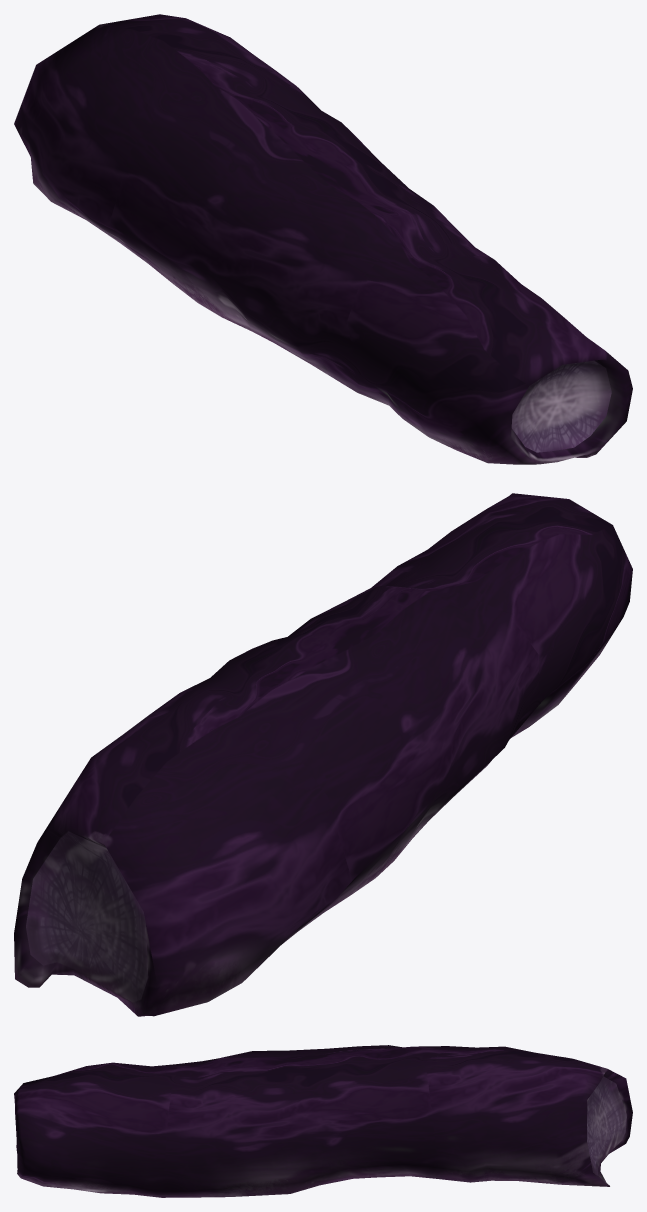
The model's file is bois_pasrelle.fbx.
3 renders of one model, top to bottom at view 1: azimuth 30°, elevation 25°; view 2: azimuth 150°, elevation 25°; view 3: azimuth 270°, elevation 25°, orthographic. The views are drawn at different scales.
Parts seen in each view (by area): view 1: Plane; view 2: Plane; view 3: Plane.
Part boxes in pixels (<box>): Plane: <box>14,14,632,464</box>; Plane: <box>14,493,632,1016</box>; Plane: <box>14,1045,632,1197</box>.
Size of the model in its own units: 226 by 174 by 801.
